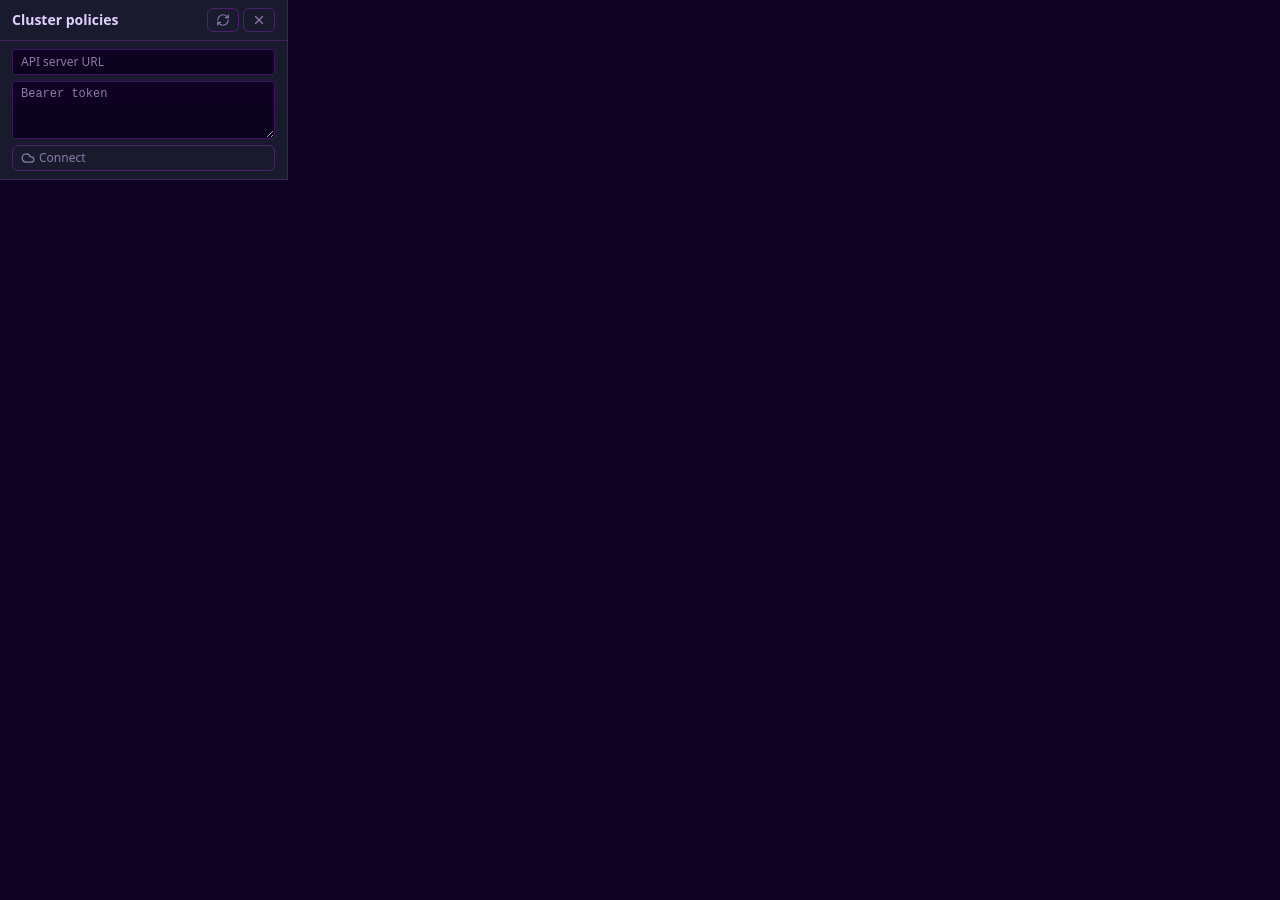
Test: delete UI › deleting via the row button opens the single confirm dialog
This screenshot has width=1280, height=900.
Click the button named "Load policies". click: (223, 20)
box: x1=207 y1=8 x2=239 y2=32
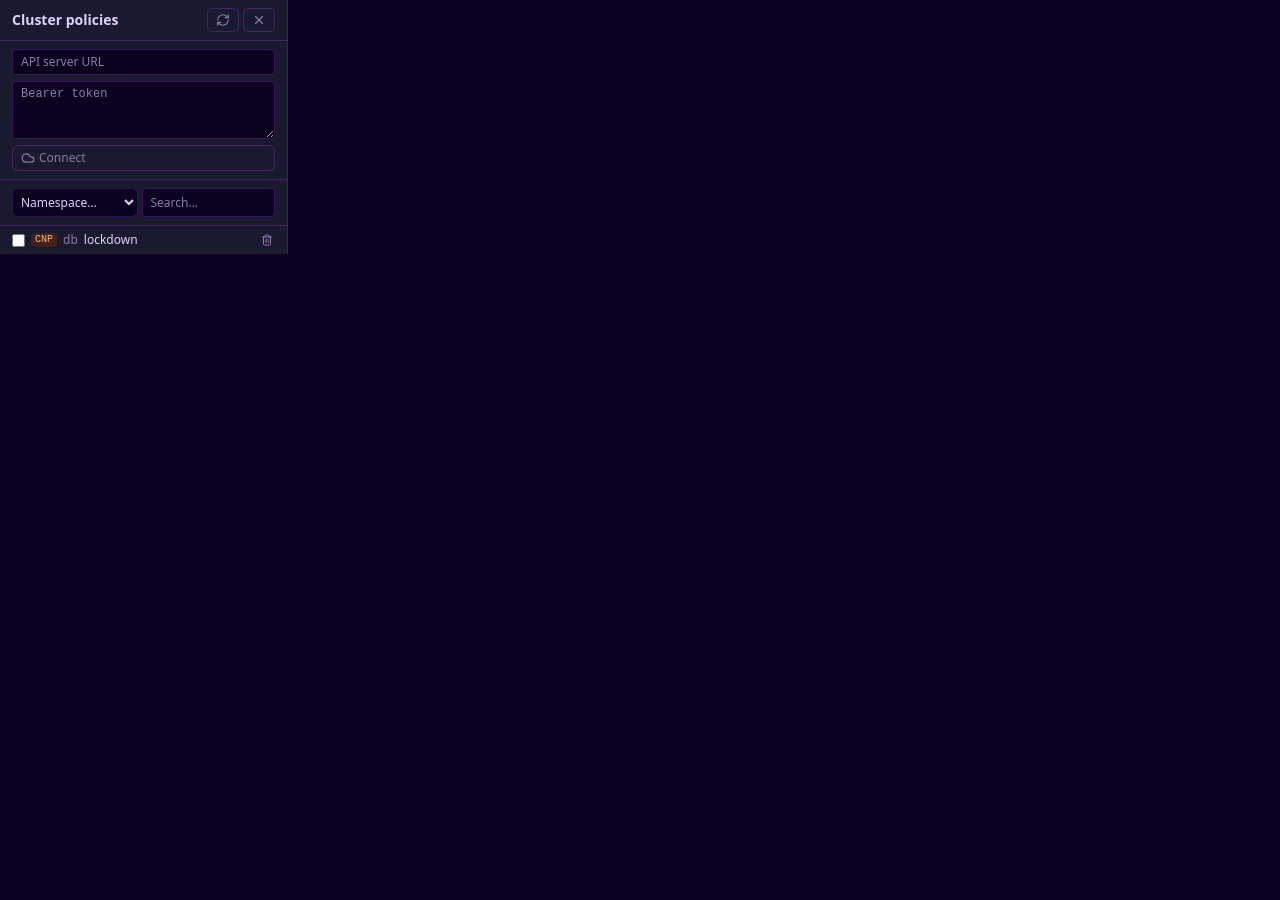
Result: the text "lockdown" is shown once at x1=84 y1=232 x2=138 y2=248
Click the button named "Delete: db/lockdown". click: (267, 240)
box: x1=259 y1=232 x2=275 y2=248
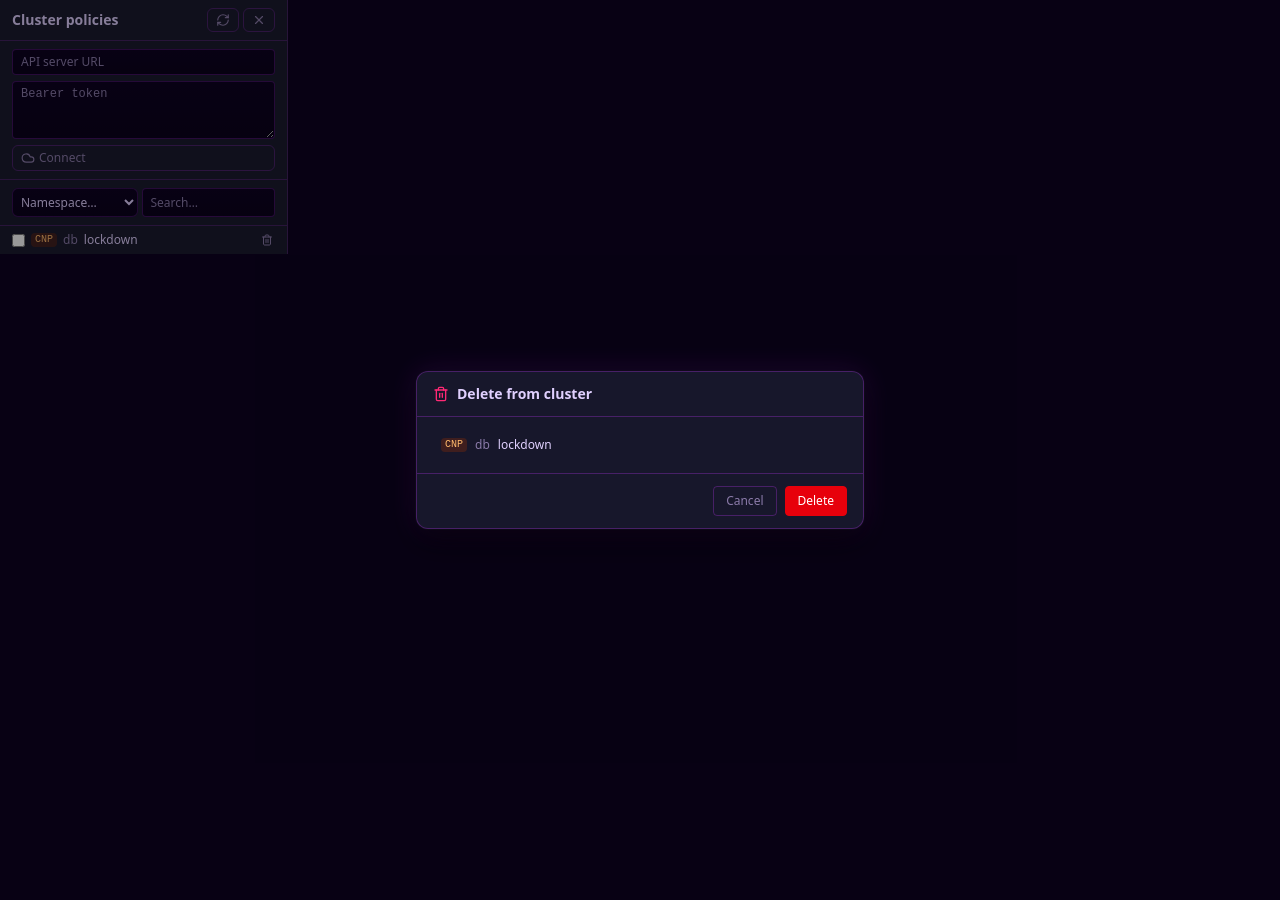
Result: the heading "Delete from cluster" is shown at x1=457 y1=384 x2=592 y2=404
